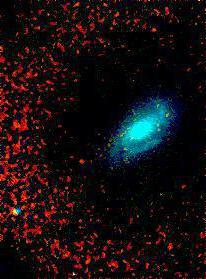star: (67, 147, 97, 177)
